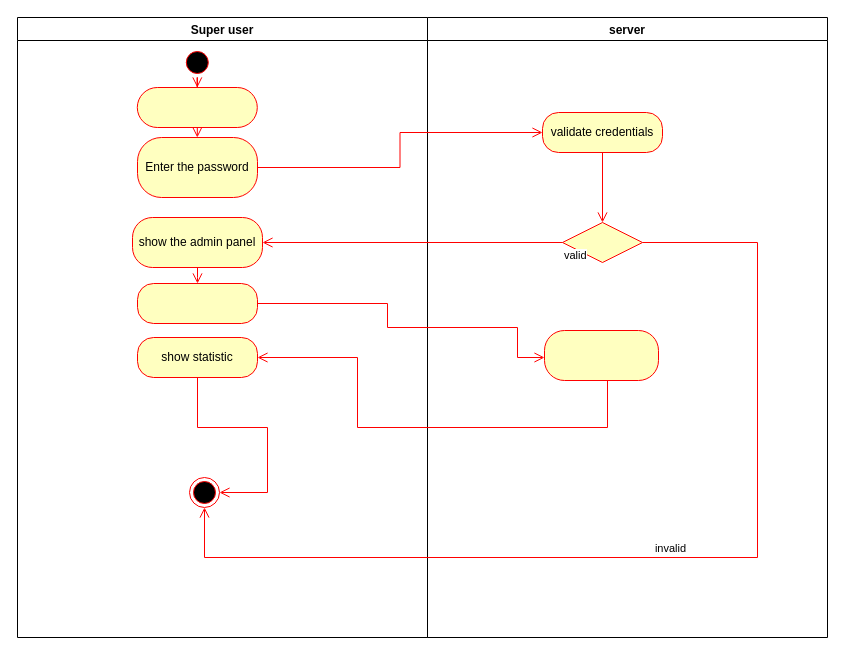
Image size: 845x655. Some labels were removed from this diagram. The shapes that lost their labels are listed below. From the top down, each one's centre as x and y in pixels, then its label:
At (x=196, y=107): "Open Web Panel Of Admin".
At (x=197, y=303): "Get statistics of the server".
At (x=601, y=355): "gather Data of Load, number of users, files and...".
